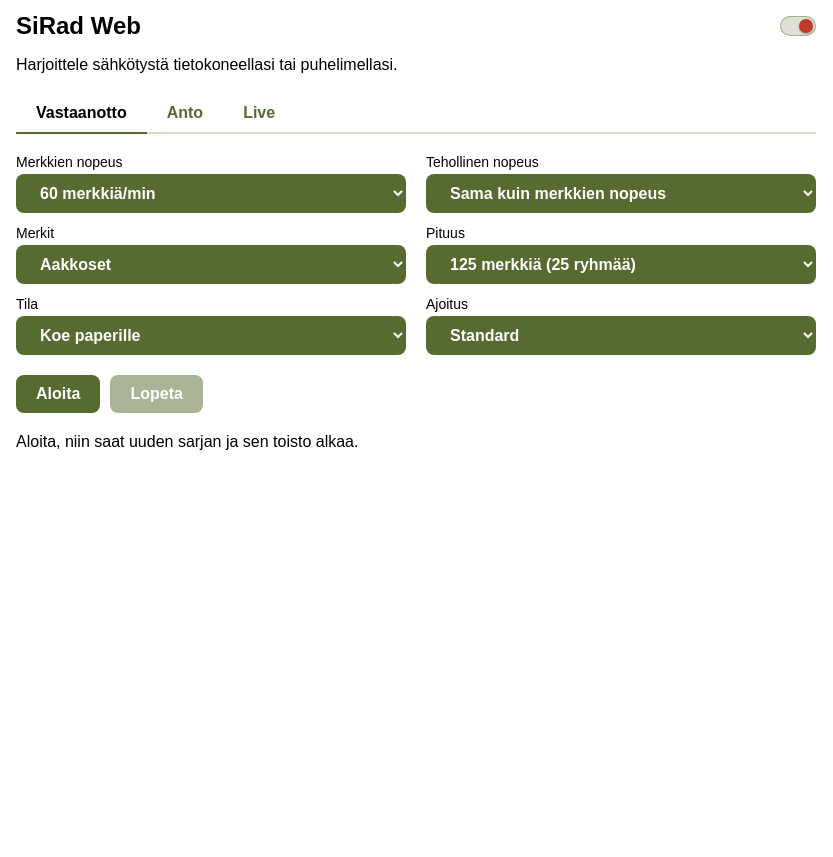
Test: App › makes the series of the receiving exercise by the settings
The width and height of the screenshot is (833, 857).
Select "100 merkkiä/min" in the dropdown labelled "Merkkien nopeus" at (211, 194), box left=16, top=174, right=406, bottom=213
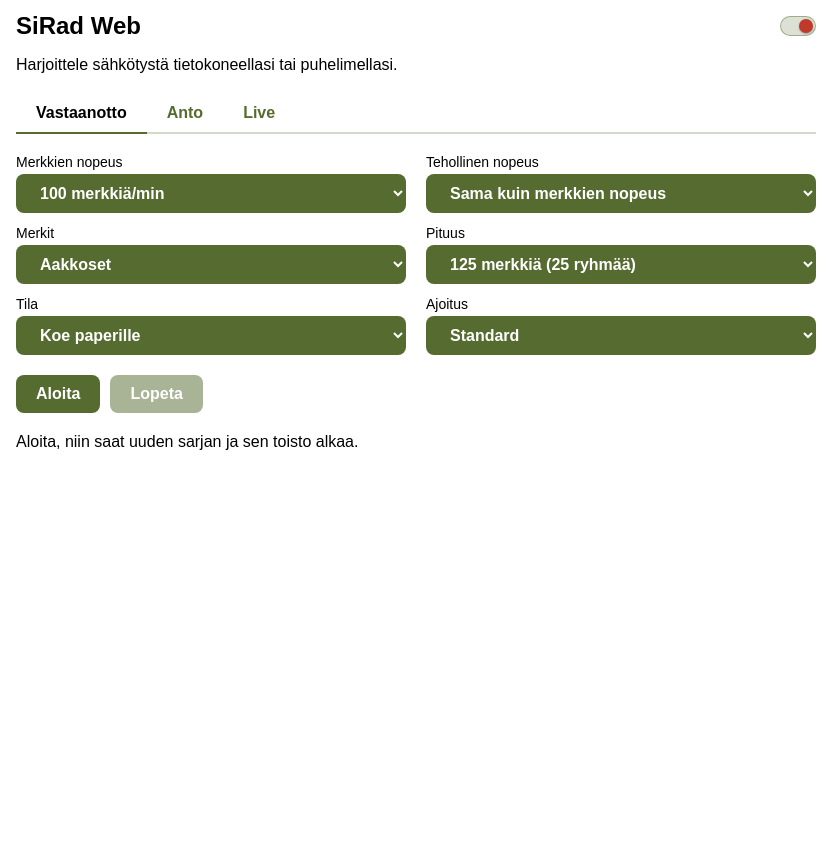
Select "Pelkät numerot" in the dropdown labelled "Merkit" at (211, 265), box left=16, top=245, right=406, bottom=284
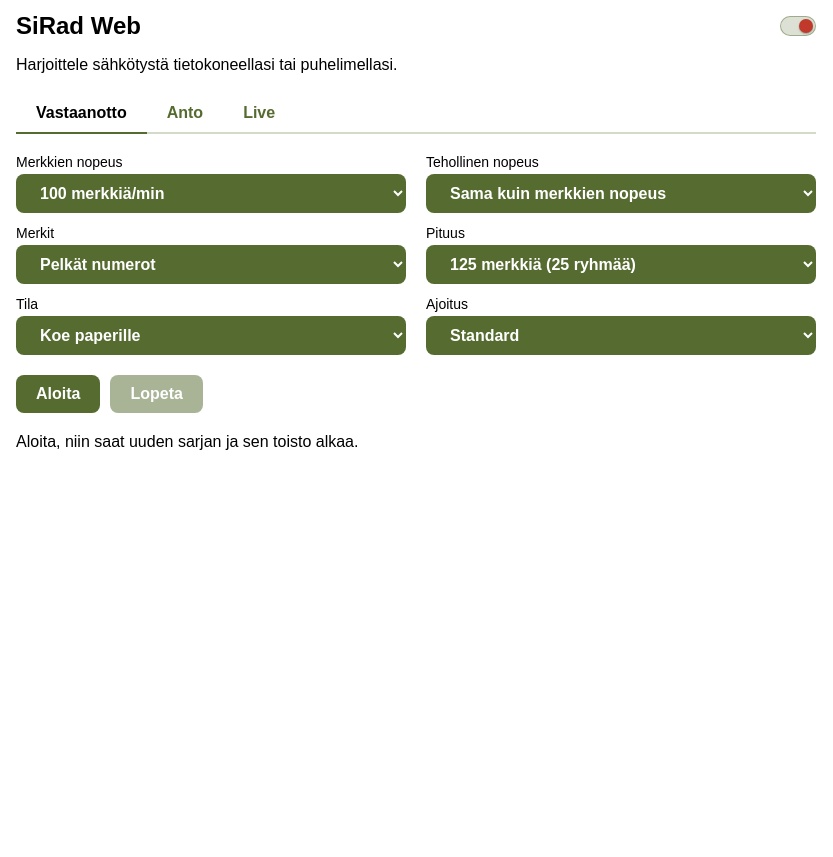
Select "250 merkkiä (50 ryhmää)" in the dropdown labelled "Pituus" at (621, 265), box left=426, top=245, right=816, bottom=284
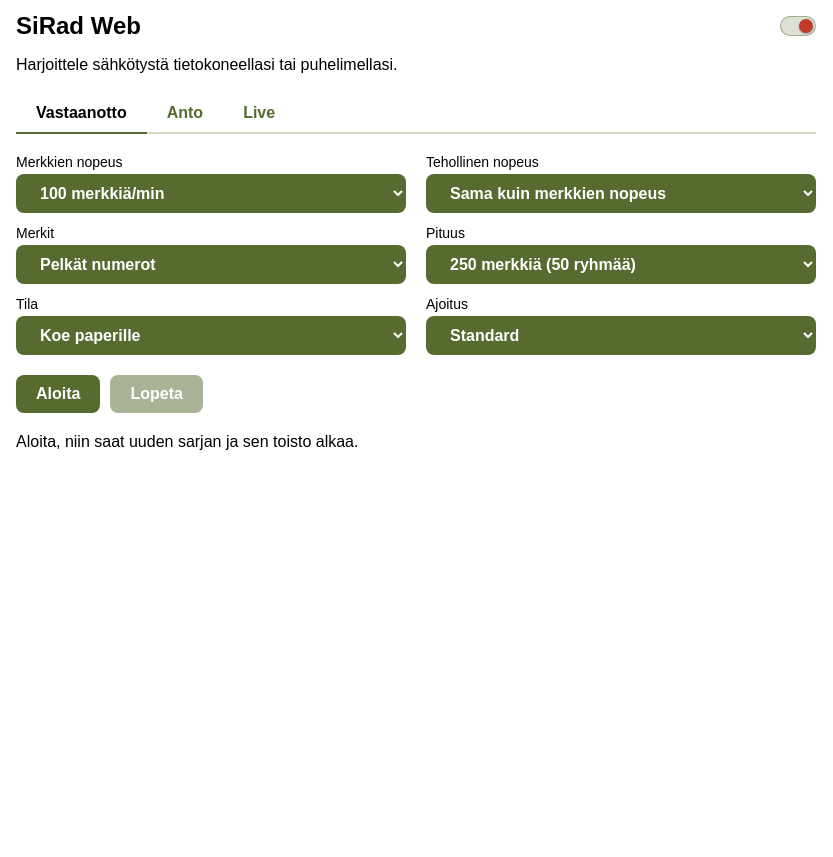
Select "Harjoittelu" in the dropdown labelled "Tila" at (211, 336), box left=16, top=316, right=406, bottom=355
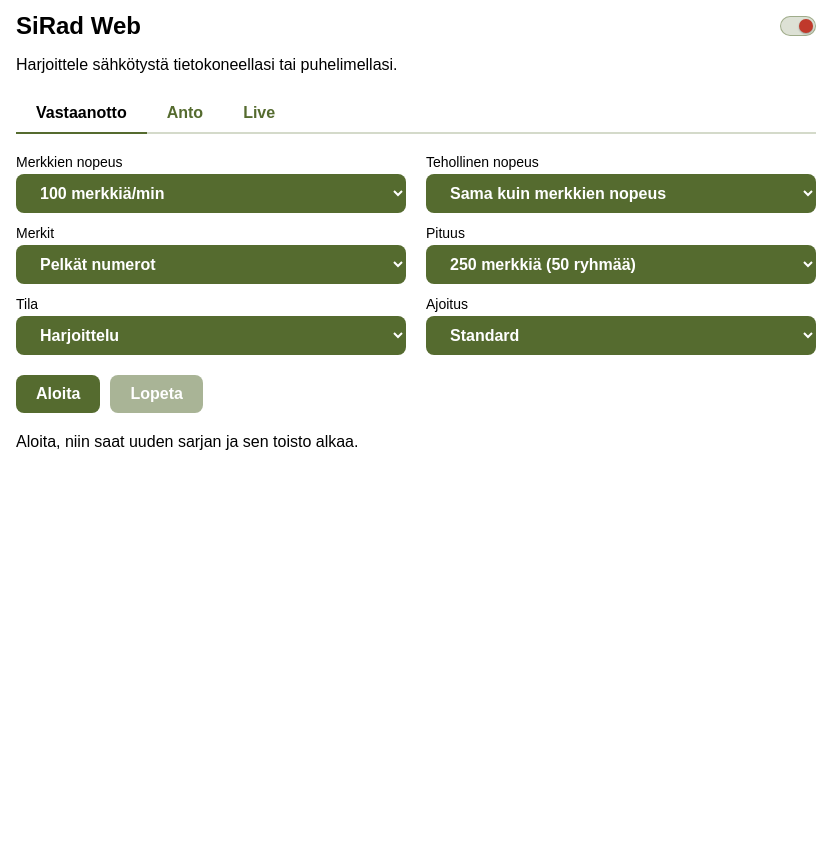
Click the button "Aloita" at (58, 394), box left=16, top=375, right=100, bottom=413
Wait 3320 ms
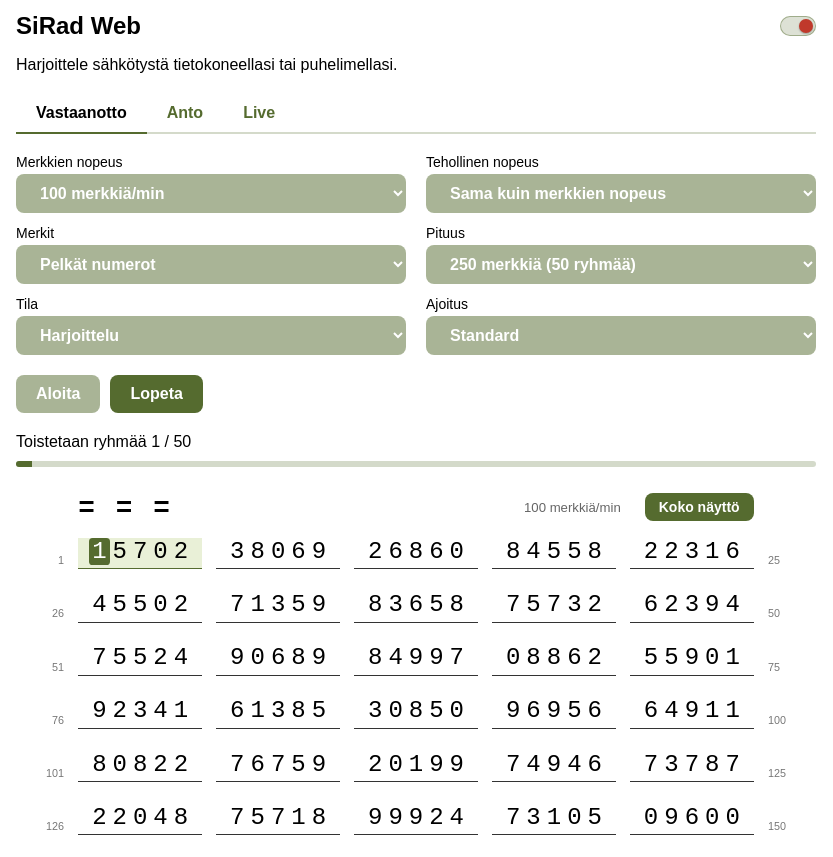
Check: the text "Toistetaan ryhmää 1 / 50" is shown, box left=16, top=433, right=191, bottom=450
Check: the text with class "Results-caption" reads "100 merkkiä/min", box left=524, top=500, right=621, bottom=515
